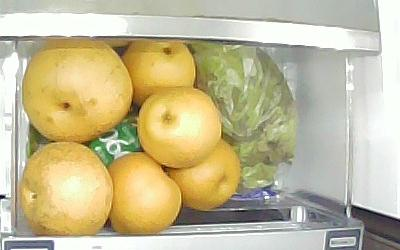pear: (20, 40, 132, 143), (19, 141, 113, 235), (137, 86, 222, 169), (107, 151, 182, 235), (168, 135, 242, 211), (122, 39, 196, 107)
